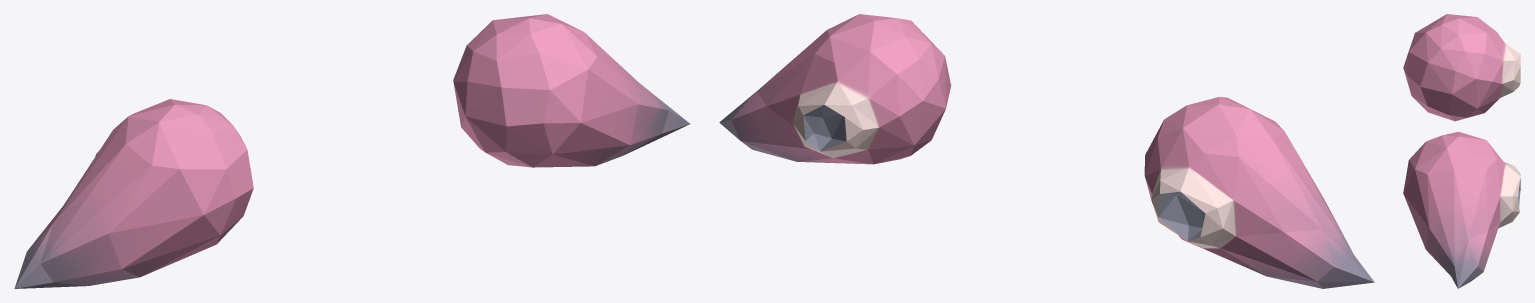
Rendered from blob_eyes_down.dae.
The picture shows the model from 3 angles, left to right: view 1: azimuth 30°, elevation 25°; view 2: azimuth 150°, elevation 25°; view 3: azimuth 270°, elevation 25°; orthographic projection. The views are drawn at different scales.
Visible parts, largest first — view 1: blob_eyes_down; view 2: blob_eyes_down; view 3: blob_eyes_down.
Boxes of the visible parts, x1,y1,x2,y2 form: blob_eyes_down: (14, 14, 689, 288); blob_eyes_down: (719, 14, 1374, 288); blob_eyes_down: (1403, 14, 1520, 288).
Bounding box in the file's own units: 1.91 × 0.4214 × 0.4226.
Materials: 2 (2 with a texture image).
